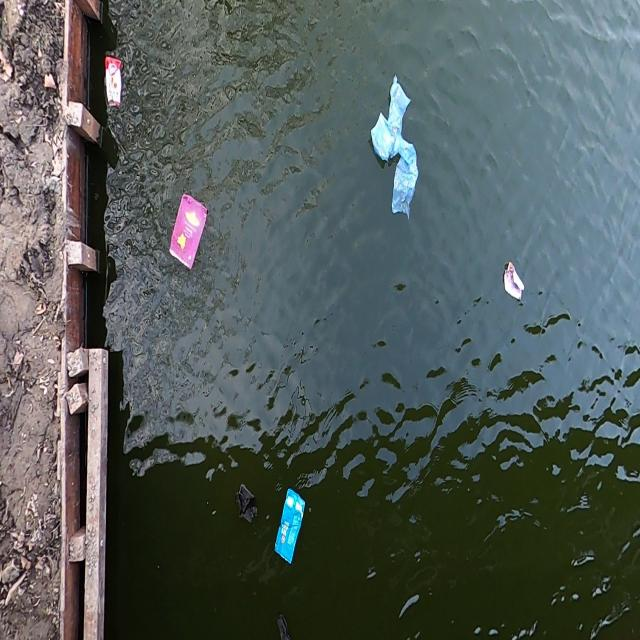Autre plastique: (163, 190, 209, 274), (270, 485, 311, 571), (98, 52, 126, 114)
Sac plastique: (366, 64, 431, 221)
